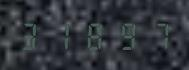eight: (78, 20, 107, 50)
nine: (108, 20, 137, 50)
one: (48, 20, 77, 50)
seven: (138, 20, 167, 50)
three: (18, 20, 47, 50)
